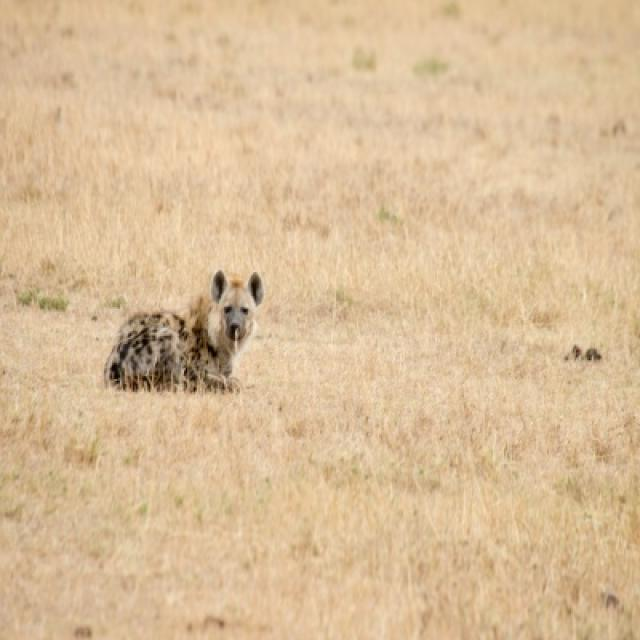hyena: (104, 272, 262, 394)
